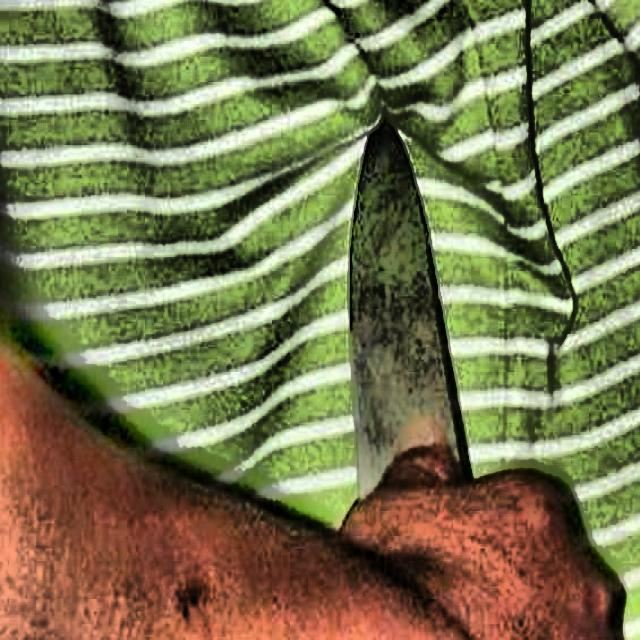knife: (348, 117, 468, 495)
